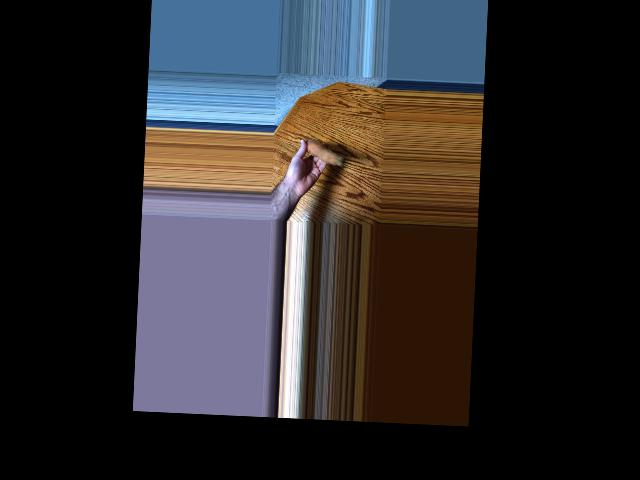sweet_potato: (301, 138, 344, 168)
